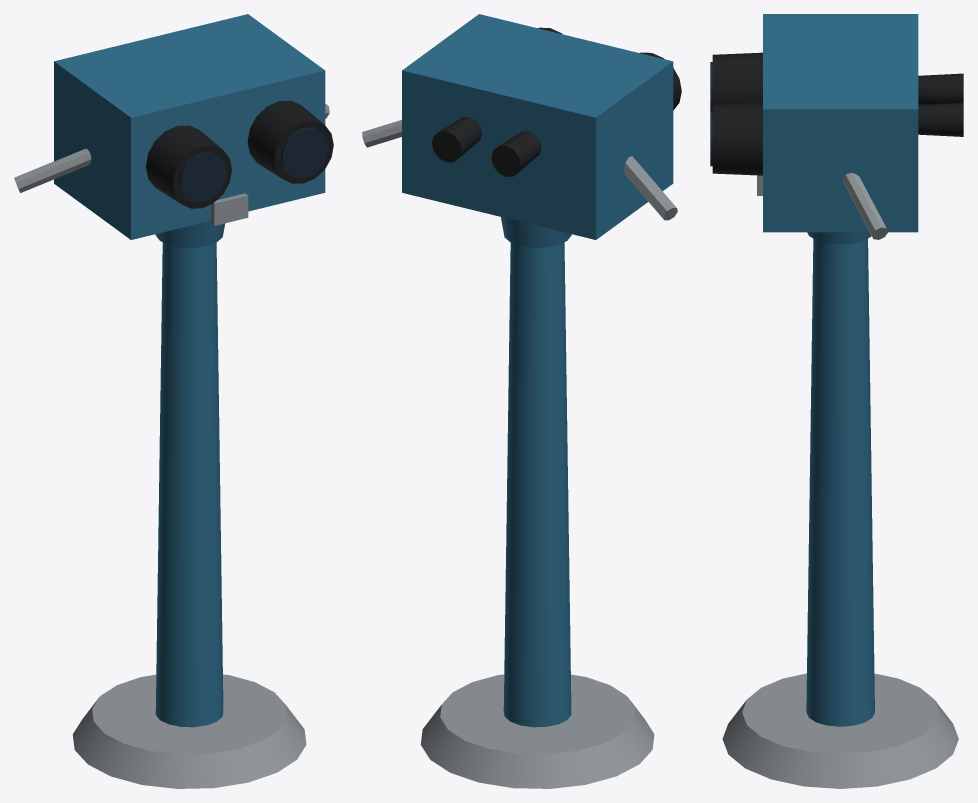
File: viewer.glb
3 views of the same model, side by side, from view 1: azimuth 30°, elevation 25°; view 2: azimuth 150°, elevation 25°; view 3: azimuth 270°, elevation 25° (orthographic).
Parts seen in each view (by area): view 1: paint3, paint1, steel0, trim4, trim8, glass5, glass9, steel7, paint2, steel12; view 2: paint3, paint1, steel0, trim6, trim10, paint2, steel7, steel11; view 3: paint3, paint1, steel0, trim8, trim4, trim10, trim6, steel11, paint2.
Part boxes in pixels (bbox=[...]): paint3: bbox=[54, 14, 325, 239]; paint1: bbox=[155, 242, 223, 727]; steel0: bbox=[72, 674, 306, 788]; trim4: bbox=[146, 125, 231, 208]; trim8: bbox=[247, 100, 333, 183]; glass5: bbox=[179, 152, 226, 202]; glass9: bbox=[281, 127, 328, 177]; steel7: bbox=[14, 148, 91, 192]; paint2: bbox=[155, 221, 225, 247]; steel12: bbox=[208, 193, 248, 225]; paint3: bbox=[402, 14, 673, 239]; paint1: bbox=[503, 242, 571, 727]; steel0: bbox=[420, 674, 654, 788]; trim6: bbox=[491, 131, 541, 176]; trim10: bbox=[432, 117, 482, 162]; paint2: bbox=[501, 217, 571, 247]; steel7: bbox=[624, 156, 677, 220]; steel11: bbox=[362, 120, 401, 147]; paint3: bbox=[763, 14, 918, 232]; paint1: bbox=[806, 239, 874, 726]; steel0: bbox=[722, 673, 958, 788]; trim8: bbox=[712, 102, 762, 175]; trim4: bbox=[712, 52, 762, 104]; trim10: bbox=[918, 102, 963, 136]; trim6: bbox=[918, 73, 963, 104]; steel11: bbox=[843, 172, 887, 239]; paint2: bbox=[807, 232, 871, 244].
Size of the model in its own units: 0.7386 by 1.52 by 0.515.
